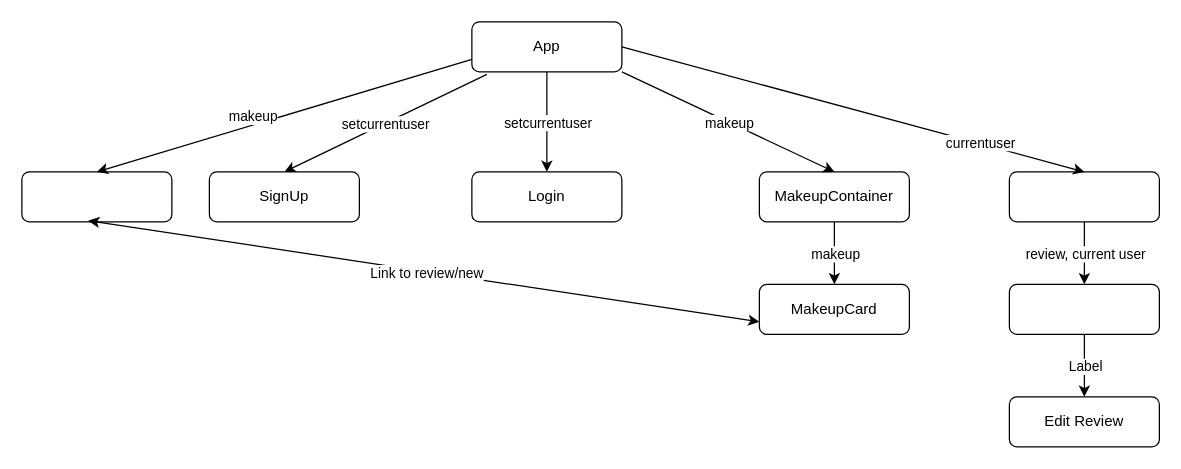
This 1181x469 diagram has some shape labels left out. The centre of each missing label's shape, as x and y in pixels:
DisplayReviews: (1083,196)
NewReview: (96,196)
ReviewDescription: (1083,308)
